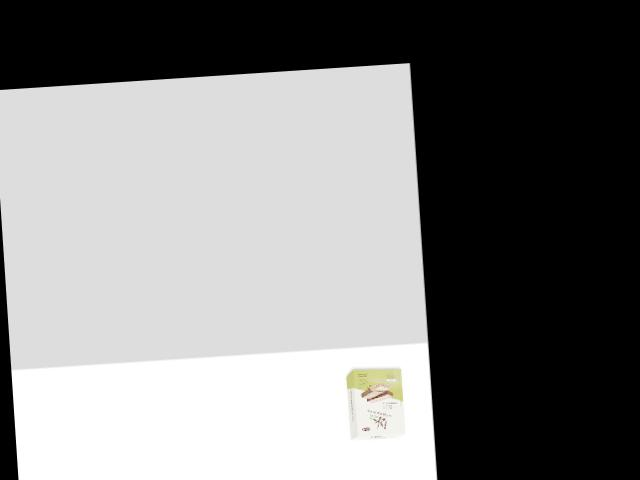chocolate: (341, 364, 406, 441)
